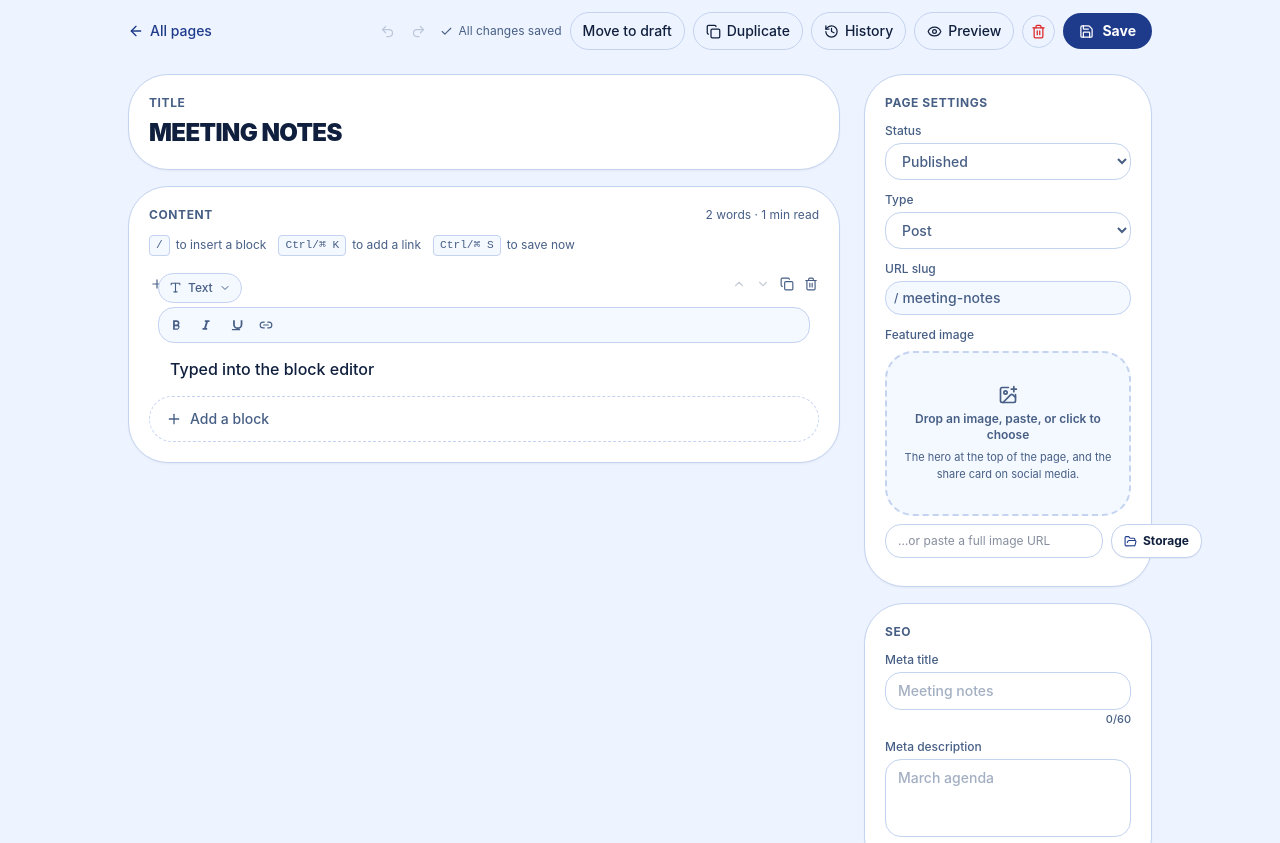
The editor cannot silently lose, unpublish, or misreport a page › stops claiming to be saving when autosave cannot reach the server
The image size is (1280, 843).
Clear the field labelled "Typed into the block editor" at (272, 369), box [170,359,374,379]
Wait 5200 ms
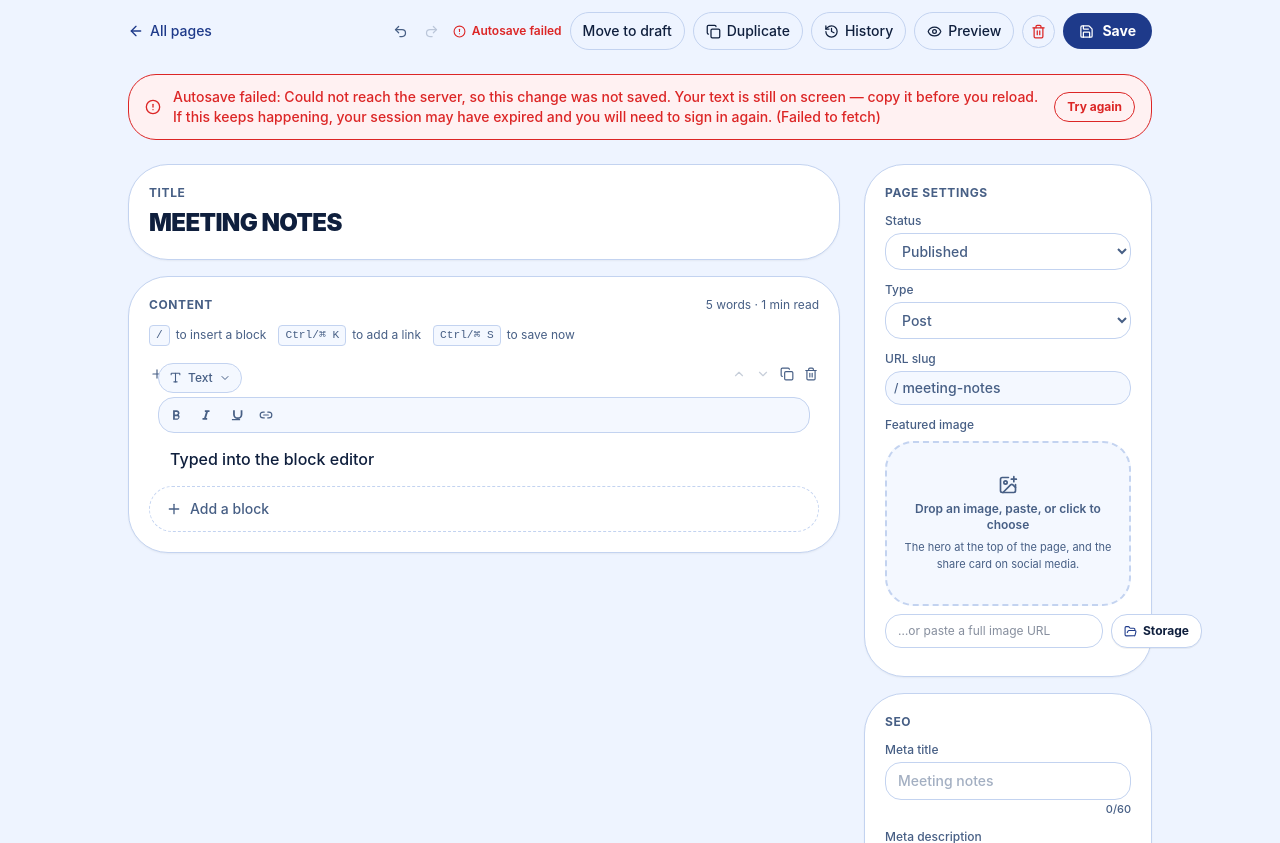
Expected: the text "copy it before" is shown, [173,88,1038,125]
